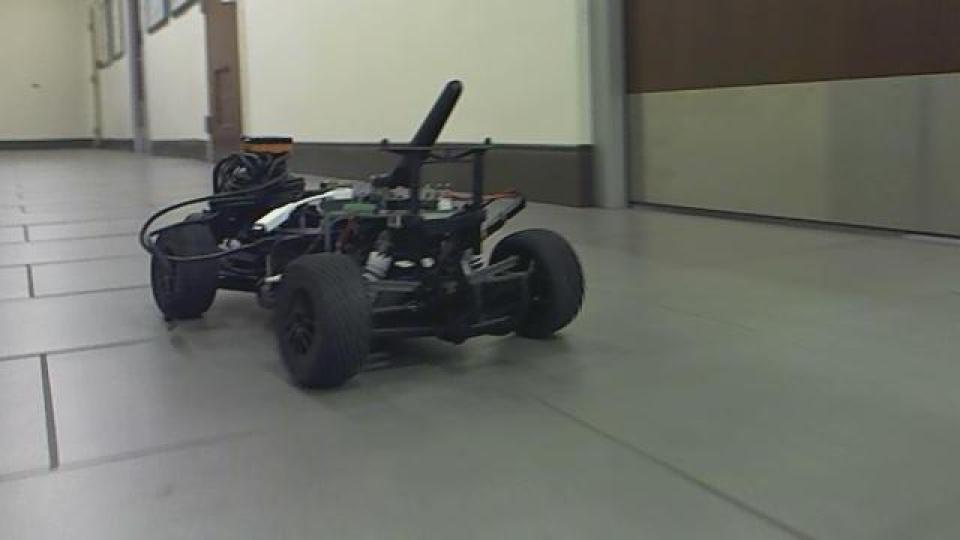car: (136, 76, 588, 392)
